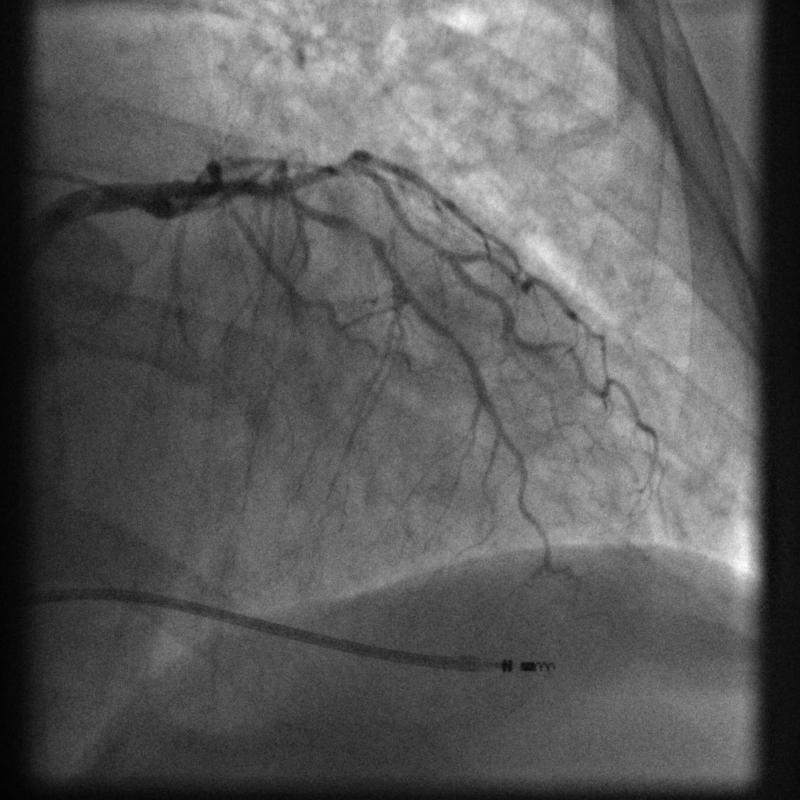Stenosis: (336, 216, 384, 265)
